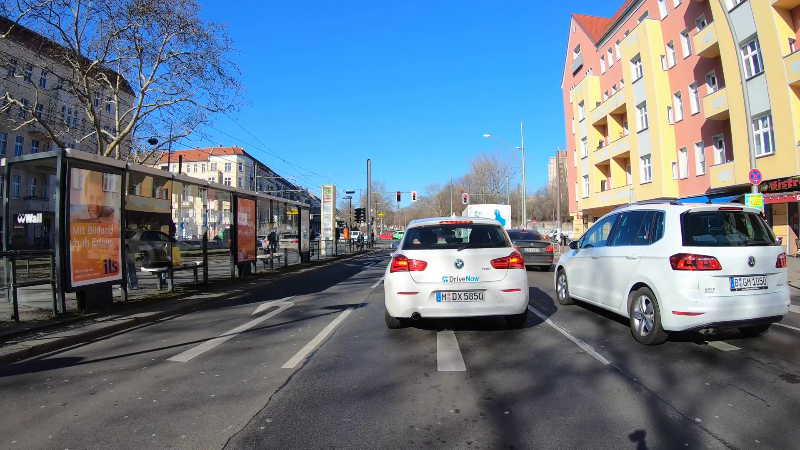Plate: (729, 271, 768, 291), (435, 288, 485, 302)
